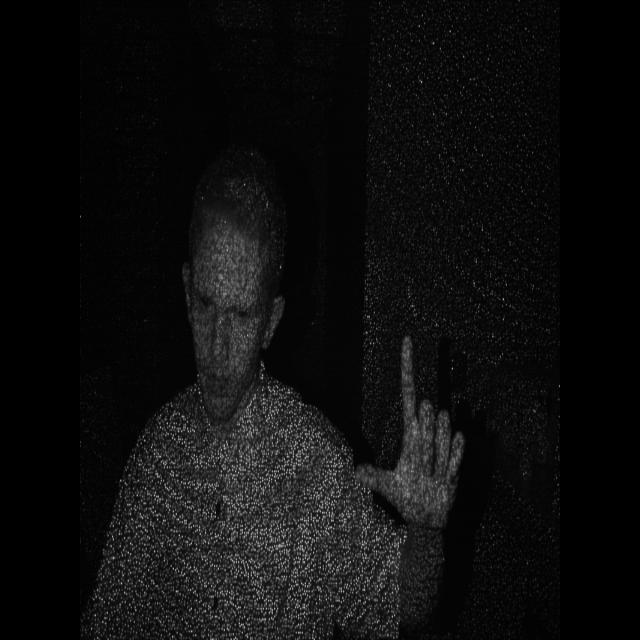L: (340, 321, 471, 548)
